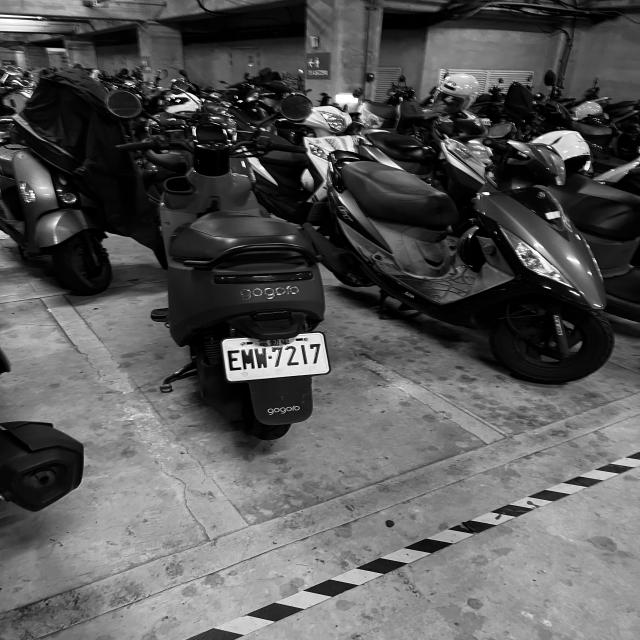-: (268, 354, 272, 360)
1: (299, 344, 308, 366)
2: (285, 345, 299, 365)
7: (308, 343, 322, 365), (272, 346, 284, 366)
E: (228, 349, 242, 371)
M: (241, 349, 255, 369)
W: (254, 348, 268, 368)
plate: (224, 338, 328, 374)
